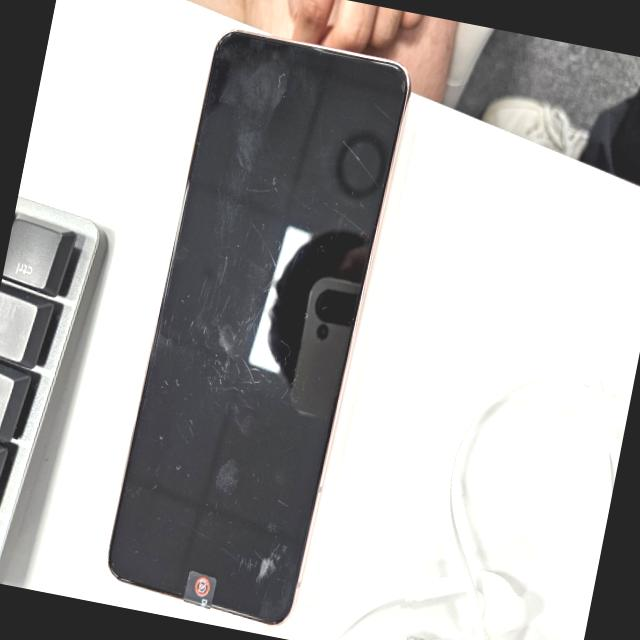phone: (99, 21, 415, 628)
sticker: (183, 570, 218, 607)
